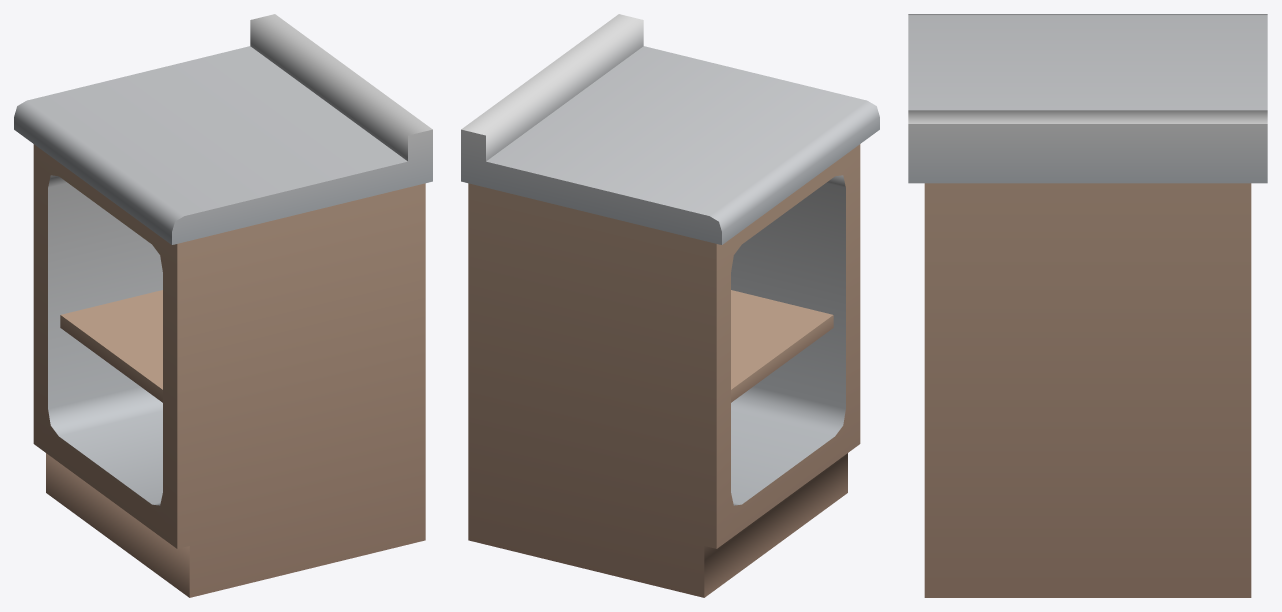
File: cabinet-basic (%thumbnail).glb
3 renders of one model, left to right at view 1: azimuth 30°, elevation 25°; view 2: azimuth 150°, elevation 25°; view 3: azimuth 270°, elevation 25°, orthographic. The views are drawn at different scales.
Visible parts, largest first — view 1: cabinet-basic (%thumbnail); view 2: cabinet-basic (%thumbnail); view 3: cabinet-basic (%thumbnail).
Part boxes in pixels (box(x1,y1,x2,y2)): cabinet-basic (%thumbnail): box(14, 14, 432, 597); cabinet-basic (%thumbnail): box(461, 14, 879, 597); cabinet-basic (%thumbnail): box(908, 14, 1267, 597).
Size of the model in its own units: 0.525 by 0.8 by 0.55.
